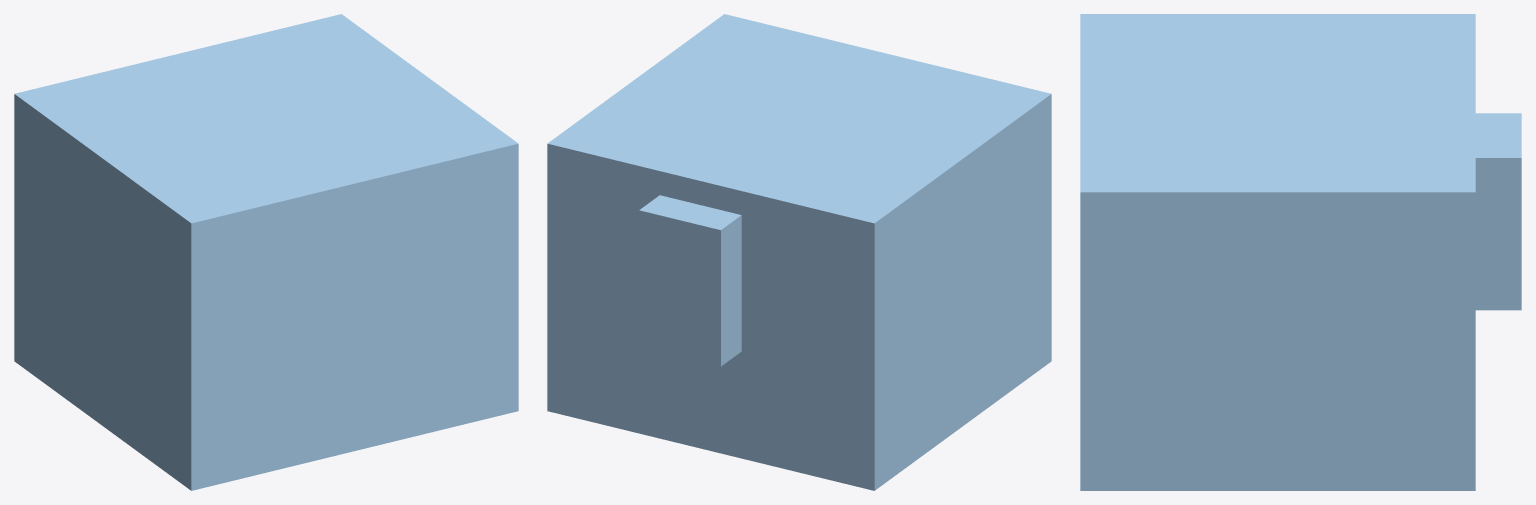
File: de_rats.glb
The picture shows the model from 3 angles, left to right: view 1: azimuth 30°, elevation 25°; view 2: azimuth 150°, elevation 25°; view 3: azimuth 270°, elevation 25°; orthographic projection. The views are drawn at different scales.
Visible parts, largest first — view 1: de_rats.bsp; view 2: de_rats.bsp; view 3: de_rats.bsp.
Part boxes in pixels (x1=…): de_rats.bsp: x1=14, y1=14, x2=518, y2=490; de_rats.bsp: x1=547, y1=14, x2=1051, y2=490; de_rats.bsp: x1=1080, y1=14, x2=1521, y2=490.
Bounding box in the file's own units: 2048 × 1600 × 2144.
Materials: 111 (111 with a texture image).
